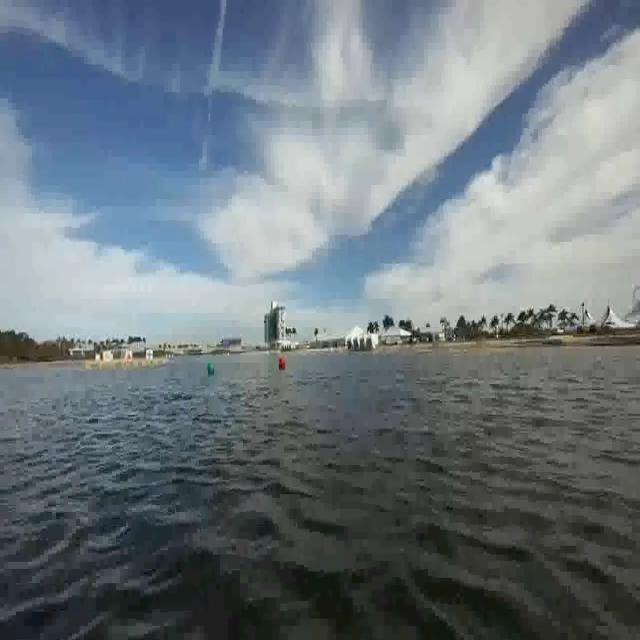green-buoy: (207, 361, 216, 374)
red-buoy: (278, 355, 286, 370)
